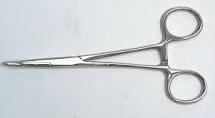mosquito clamp: (3, 4, 208, 106)
